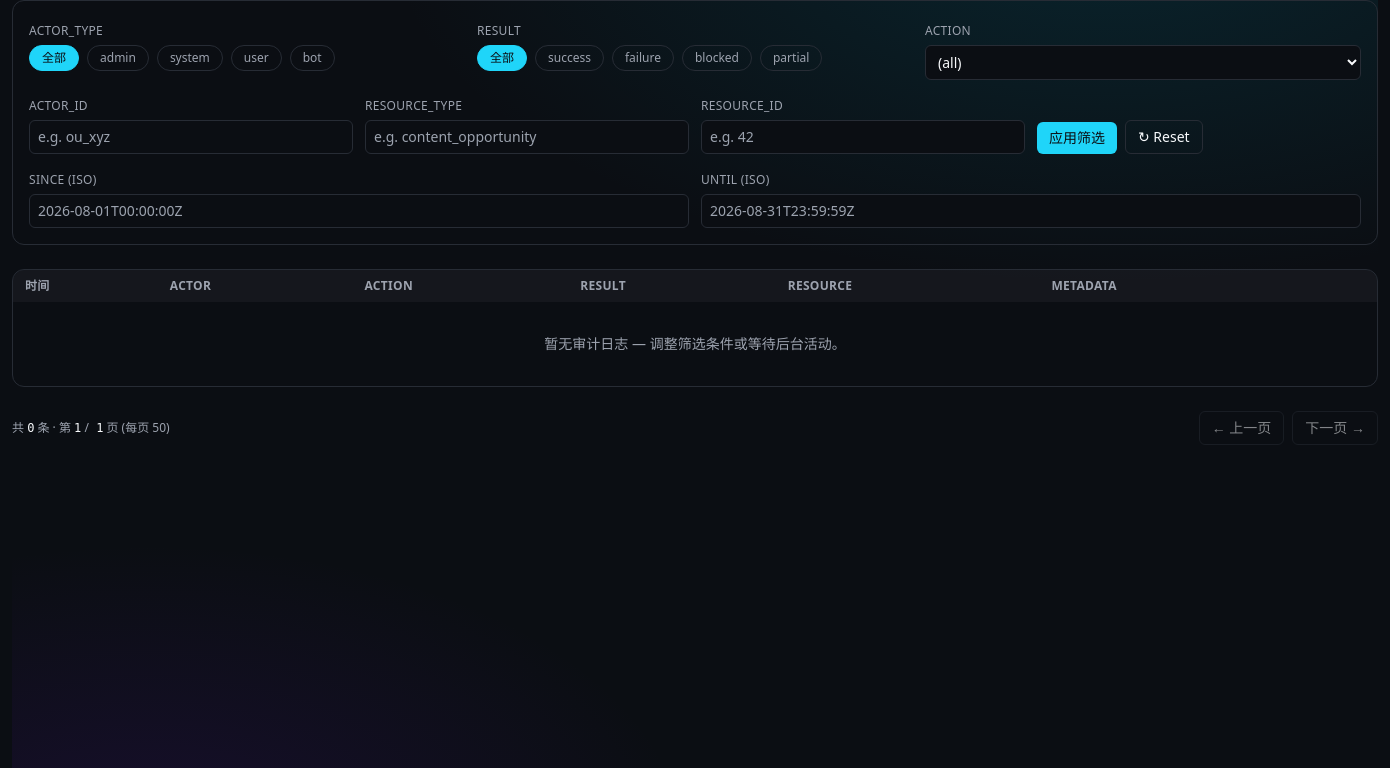
it: AuditLogsPanel › renders an error banner when the fetch fails
This screenshot has width=1390, height=768.
Click the button with test id "btn-reset": (1164, 137) [1125,120,1203,154]
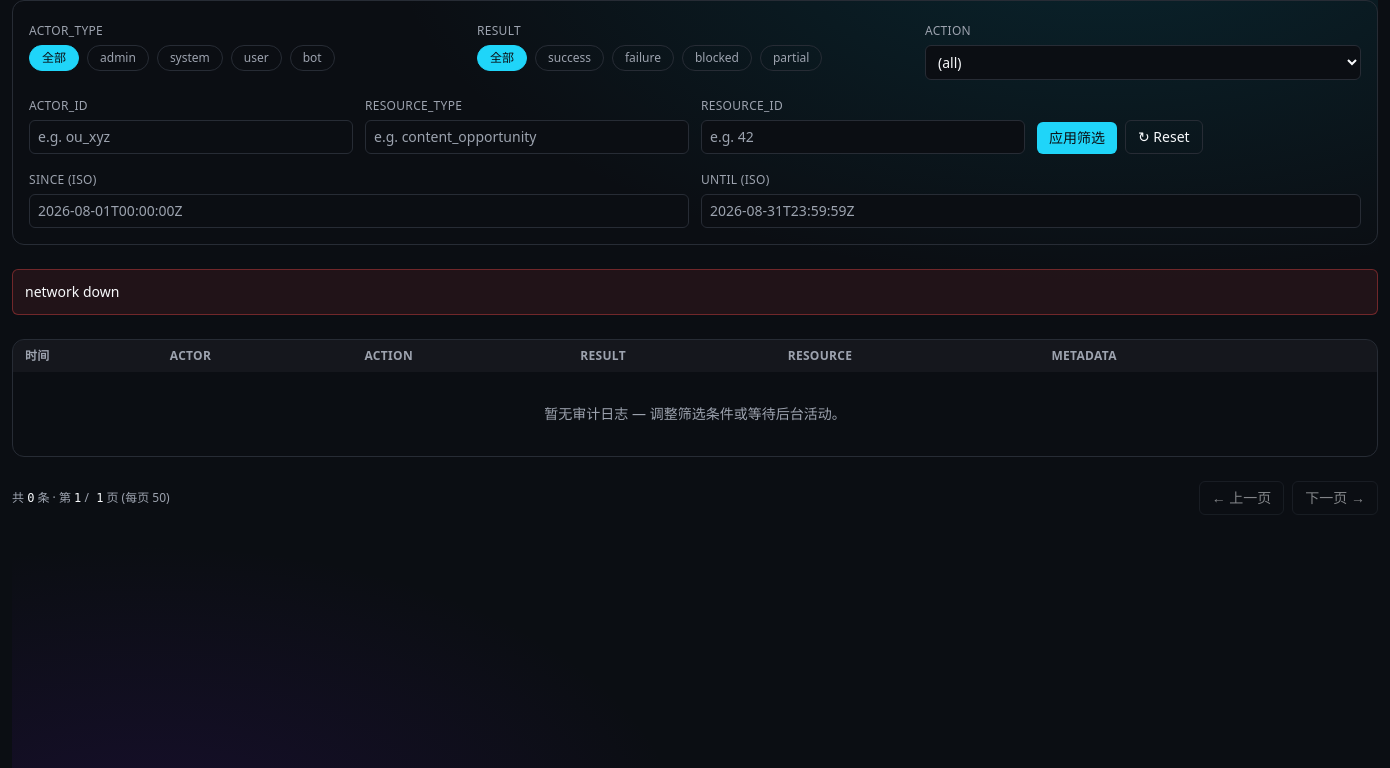
Now the text with test id "audit-logs-error" reads "network down", box [25,282,119,301]
